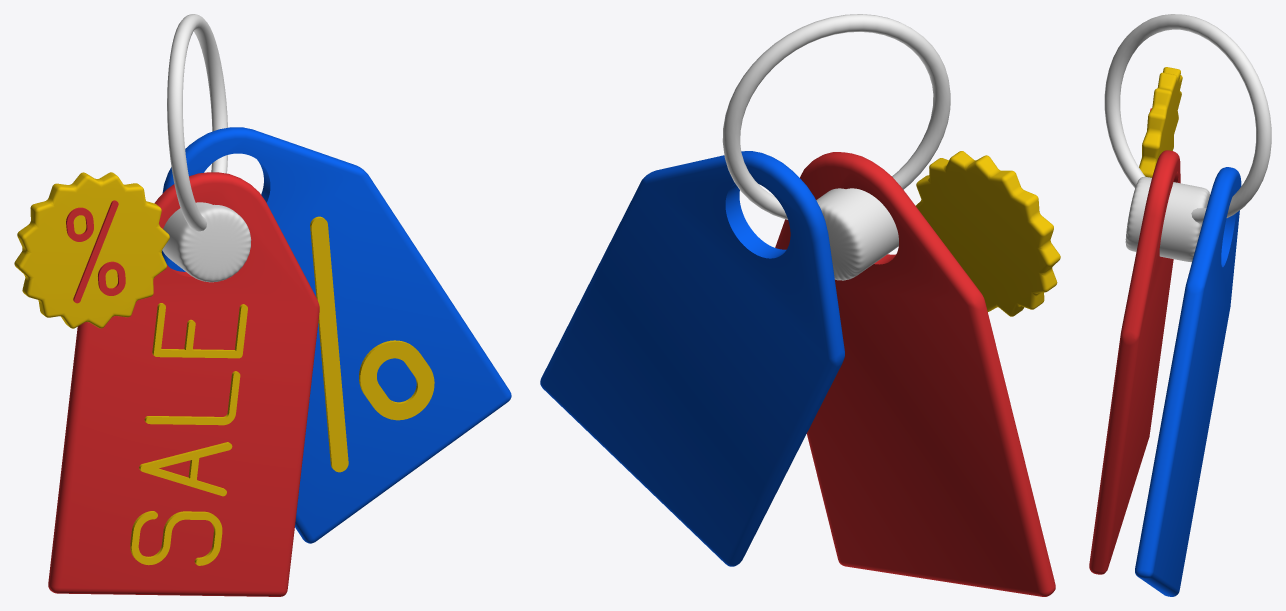
The model's file is discount-tag-3d-animated-icon-705129582985.glb.
The picture shows the model from 3 angles, left to right: view 1: azimuth 30°, elevation 25°; view 2: azimuth 150°, elevation 25°; view 3: azimuth 270°, elevation 25°; orthographic projection. The views are drawn at different scales.
Visible parts, largest first — view 1: Plane, Plane.001, Cylinder.001, Curve.001, BezierCircle, Cylinder, Curve.002, Curve.003, Curve, Curve.004, Curve.005; view 2: Plane.001, Plane, Cylinder.001, BezierCircle, Cylinder; view 3: Plane.001, Plane, BezierCircle, Cylinder, Cylinder.001.
Boxes of the visible parts, x1,y1,x2,y2 form: Plane: (48, 172, 319, 596); Plane.001: (161, 127, 511, 543); Cylinder.001: (14, 172, 169, 328); Curve.001: (310, 216, 434, 472); BezierCircle: (167, 14, 227, 231); Cylinder: (162, 202, 251, 282); Curve.002: (66, 200, 125, 303); Curve.003: (130, 511, 222, 565); Curve: (152, 303, 247, 358); Curve.004: (139, 442, 232, 496); Curve.005: (144, 371, 240, 425); Plane.001: (540, 151, 844, 566); Plane: (775, 152, 1055, 596); Cylinder.001: (916, 151, 1060, 316); BezierCircle: (722, 14, 950, 219); Cylinder: (816, 188, 898, 280); Plane.001: (1135, 167, 1241, 596); Plane: (1089, 150, 1180, 574); BezierCircle: (1104, 14, 1271, 223); Cylinder: (1125, 177, 1209, 262); Cylinder.001: (1139, 67, 1182, 177).
Bounding box in the file's own units: 3.58 × 3.88 × 1.2.
